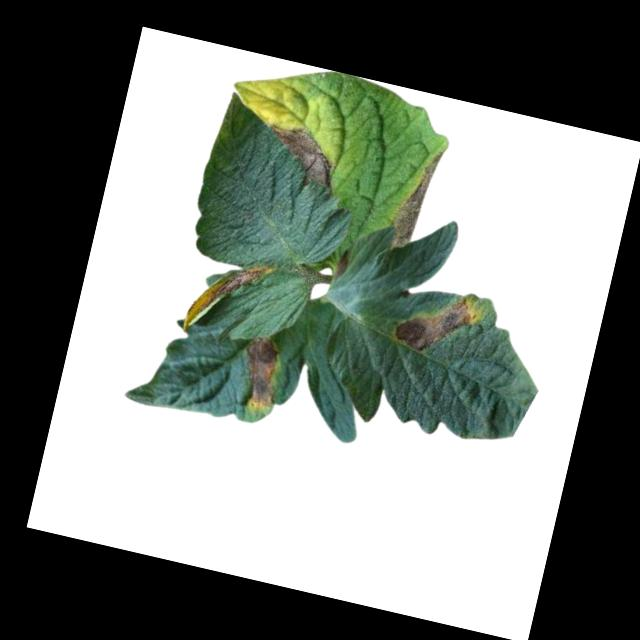Early_blight: (181, 248, 275, 348), (384, 144, 444, 259), (391, 287, 479, 364), (258, 121, 342, 196), (235, 331, 287, 413), (334, 248, 352, 280)
